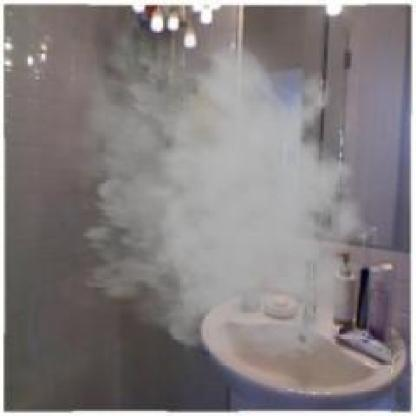Smoke: (44, 12, 387, 361)
